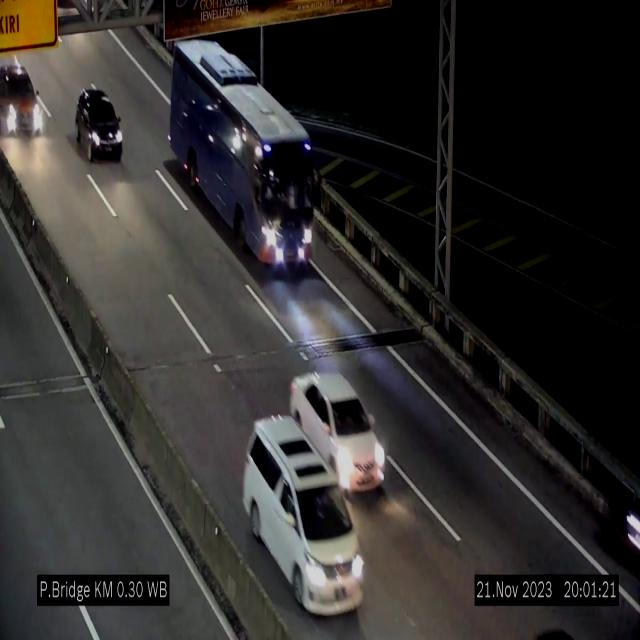Bus: (168, 38, 320, 276)
Car: (244, 416, 364, 614), (289, 371, 386, 492), (0, 63, 46, 148), (76, 88, 122, 162)
Motorcycle: (599, 477, 640, 567)
